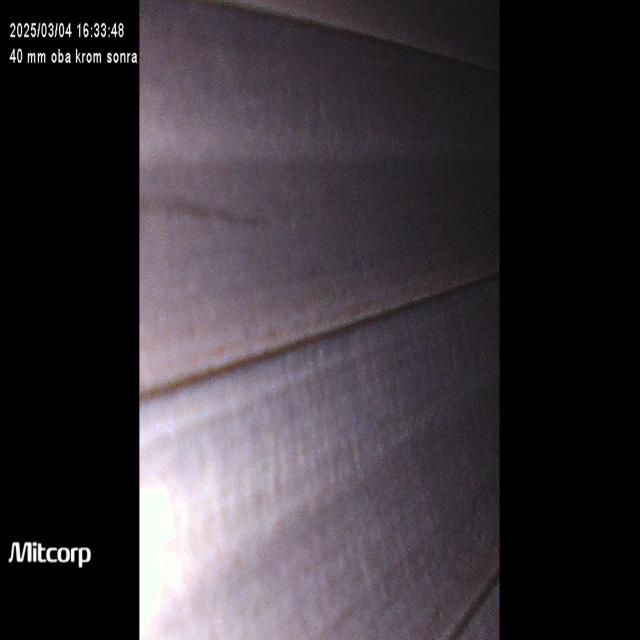hata_4.2: (137, 258, 449, 464), (137, 178, 275, 245)
